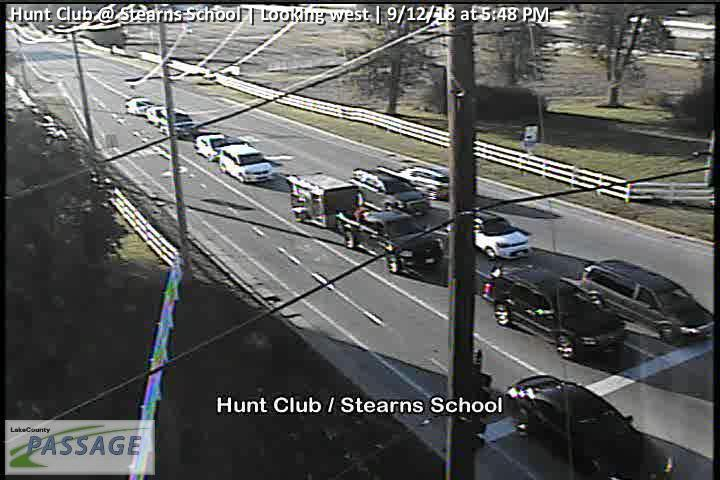SUV: (481, 266, 626, 361), (582, 258, 714, 345), (351, 168, 430, 214), (218, 144, 274, 182), (401, 166, 449, 197)
Sedan: (502, 375, 675, 480), (470, 211, 532, 260), (192, 133, 230, 158)
Truck: (286, 171, 446, 277)
